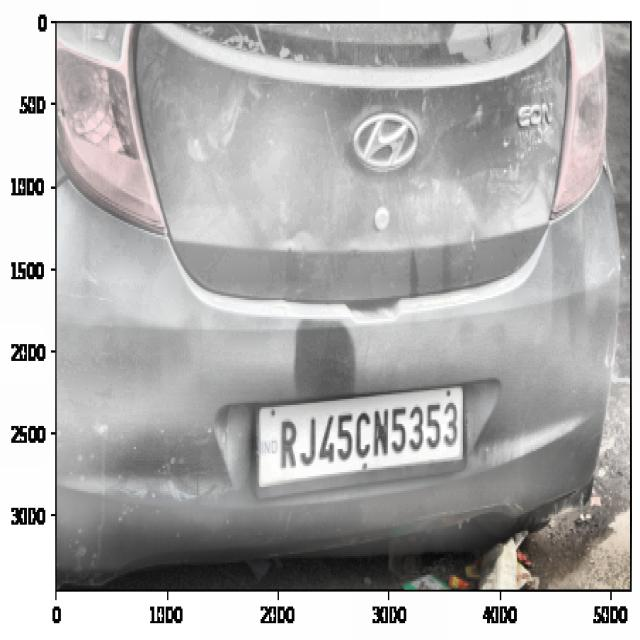license_plate: (269, 398, 462, 470)
